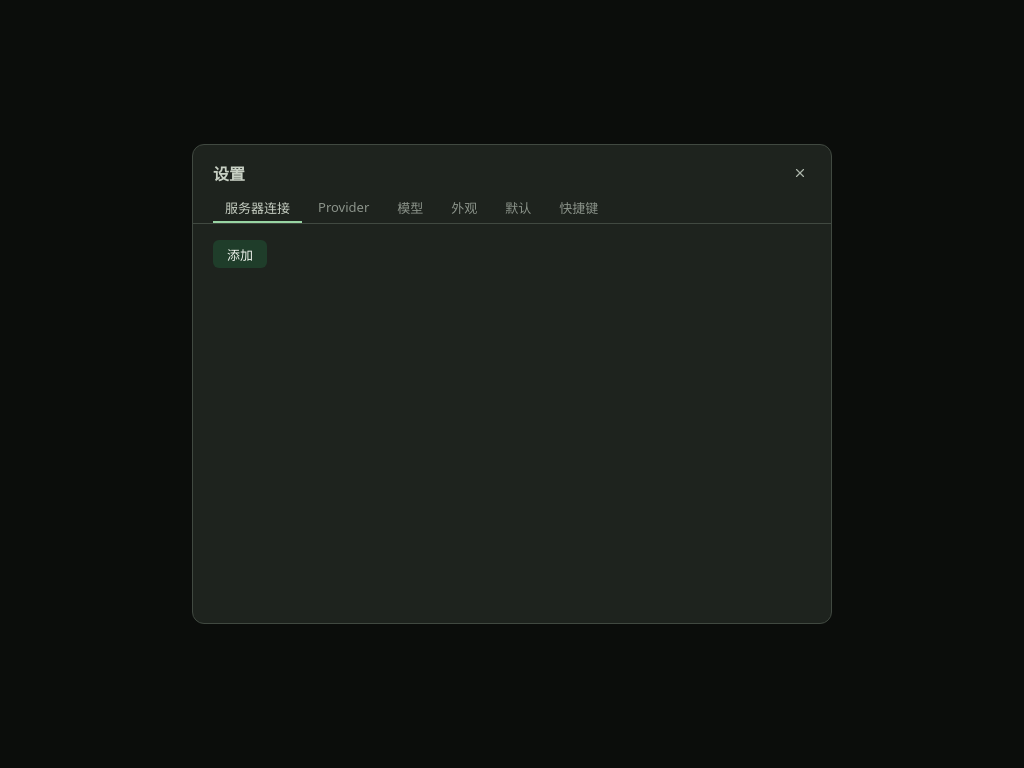
添加服务器引导式（design-guided-add-server） › 发现视图焦点落弹窗容器（真 focus 语义：Esc 分层第一跳不失效）
Click the button "添加".
click(240, 254)  # box [213,240,267,268]
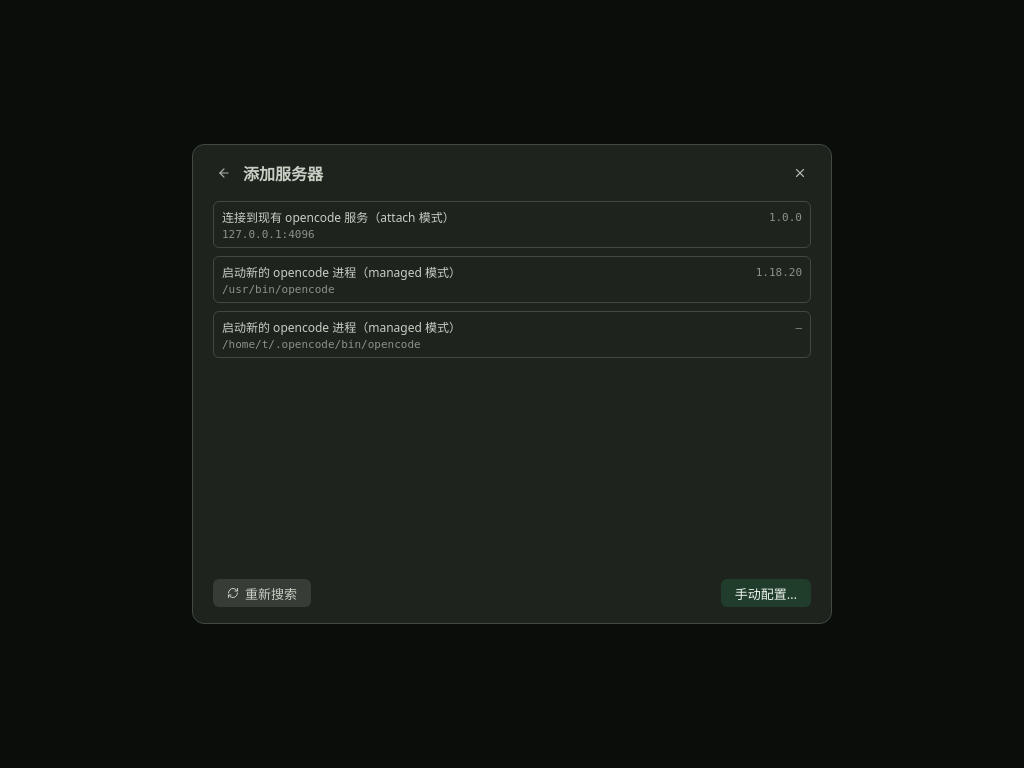
Expected: the button "手动配置…" is shown
# manual（无 autoFocus 落焦时同理）返回发现视图后焦点回容器
Click the button "手动配置…".
click(766, 593)  # box [721,579,811,607]
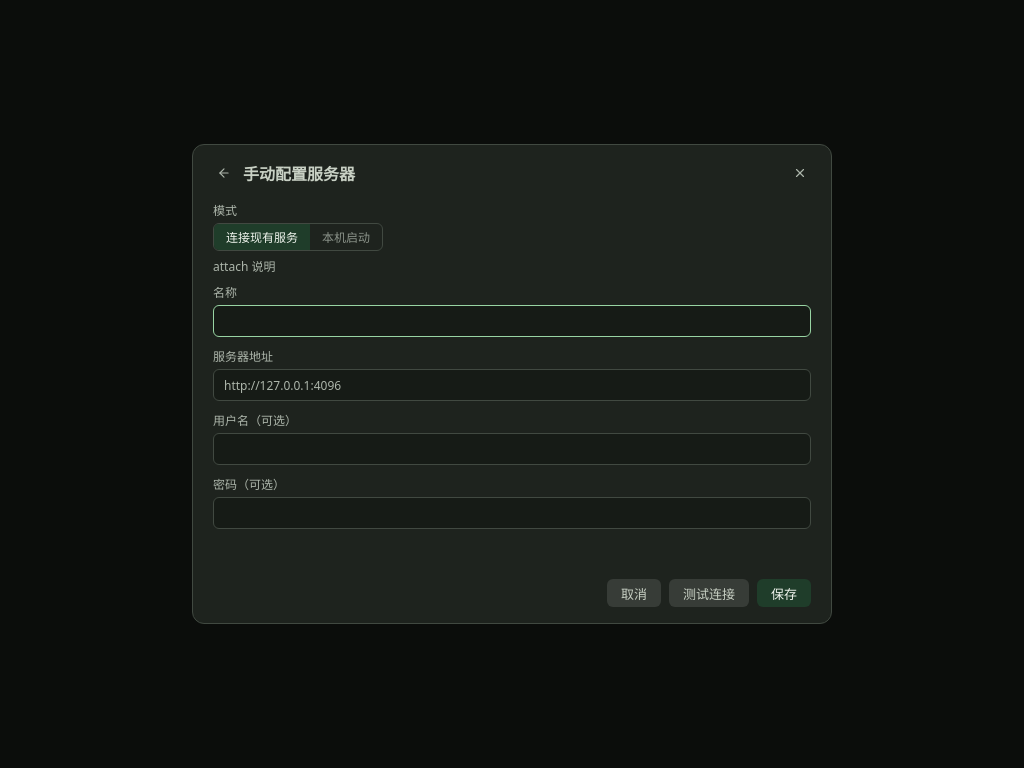
Expected: the text "手动配置服务器" is shown, [243,161,355,185]
Click the button titled "返回".
click(224, 173)  # box [213,162,235,184]
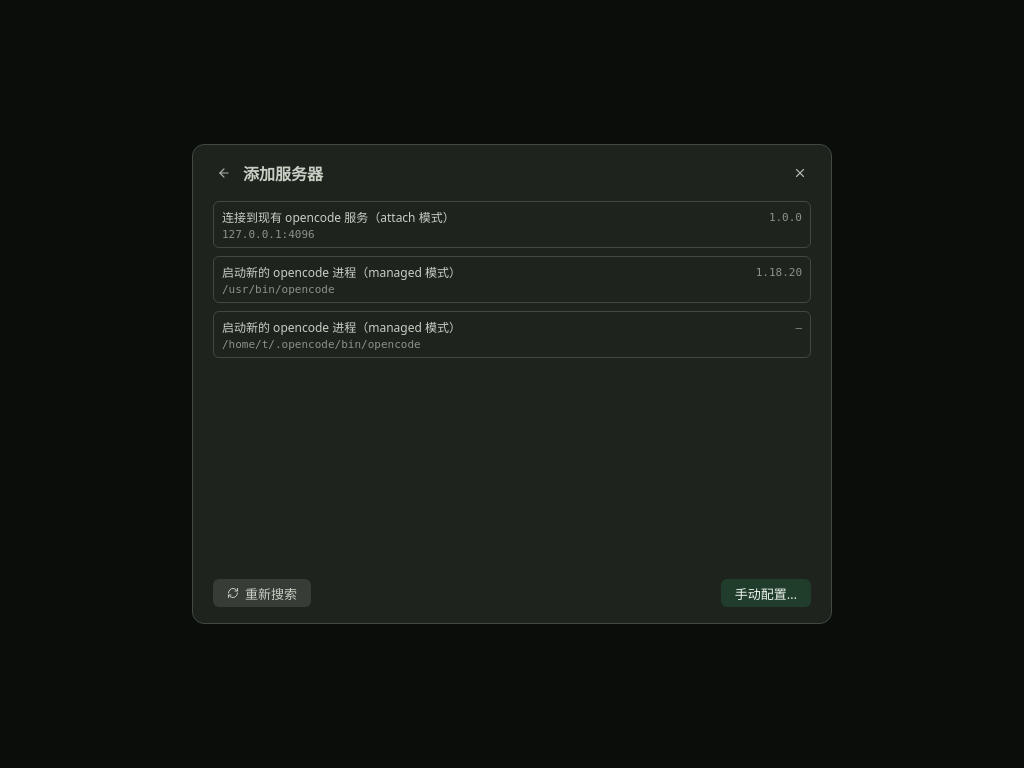
Expected: the button "手动配置…" is shown, [721,579,811,607]
